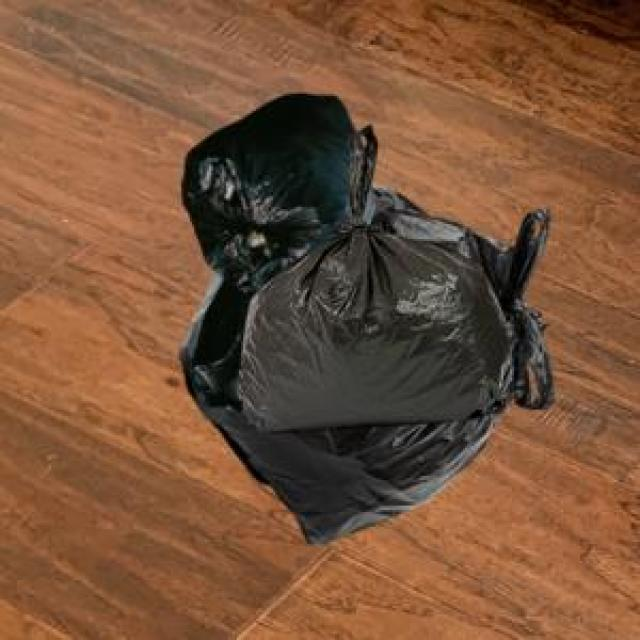Vinyl: (181, 94, 550, 543)
